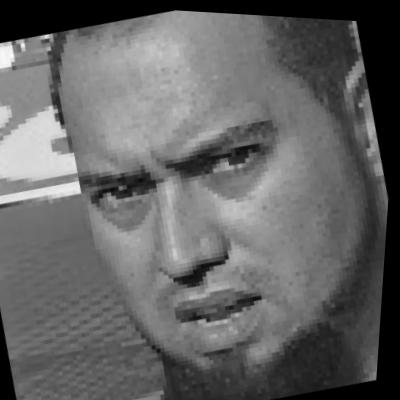angry: (40, 3, 400, 400)
